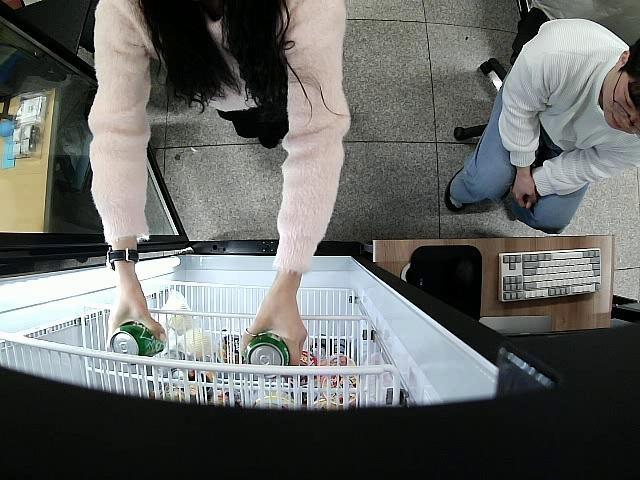12_chilsungCider: (108, 320, 166, 366), (242, 333, 290, 382)
